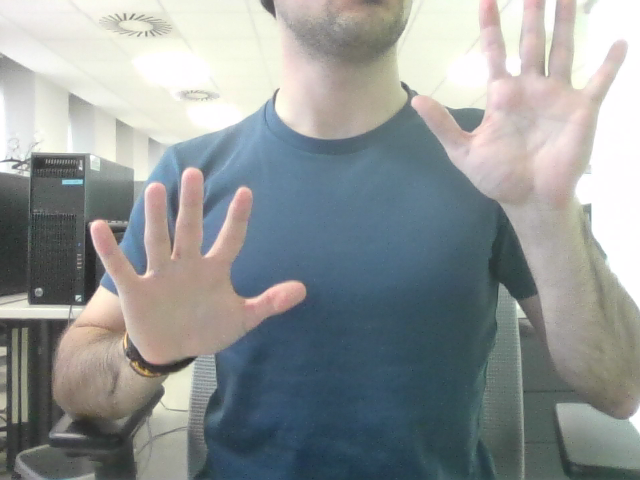Manos Arriba: (126, 6, 594, 321)
